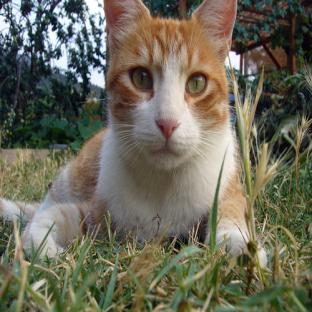Animal: (24, 0, 247, 255)
